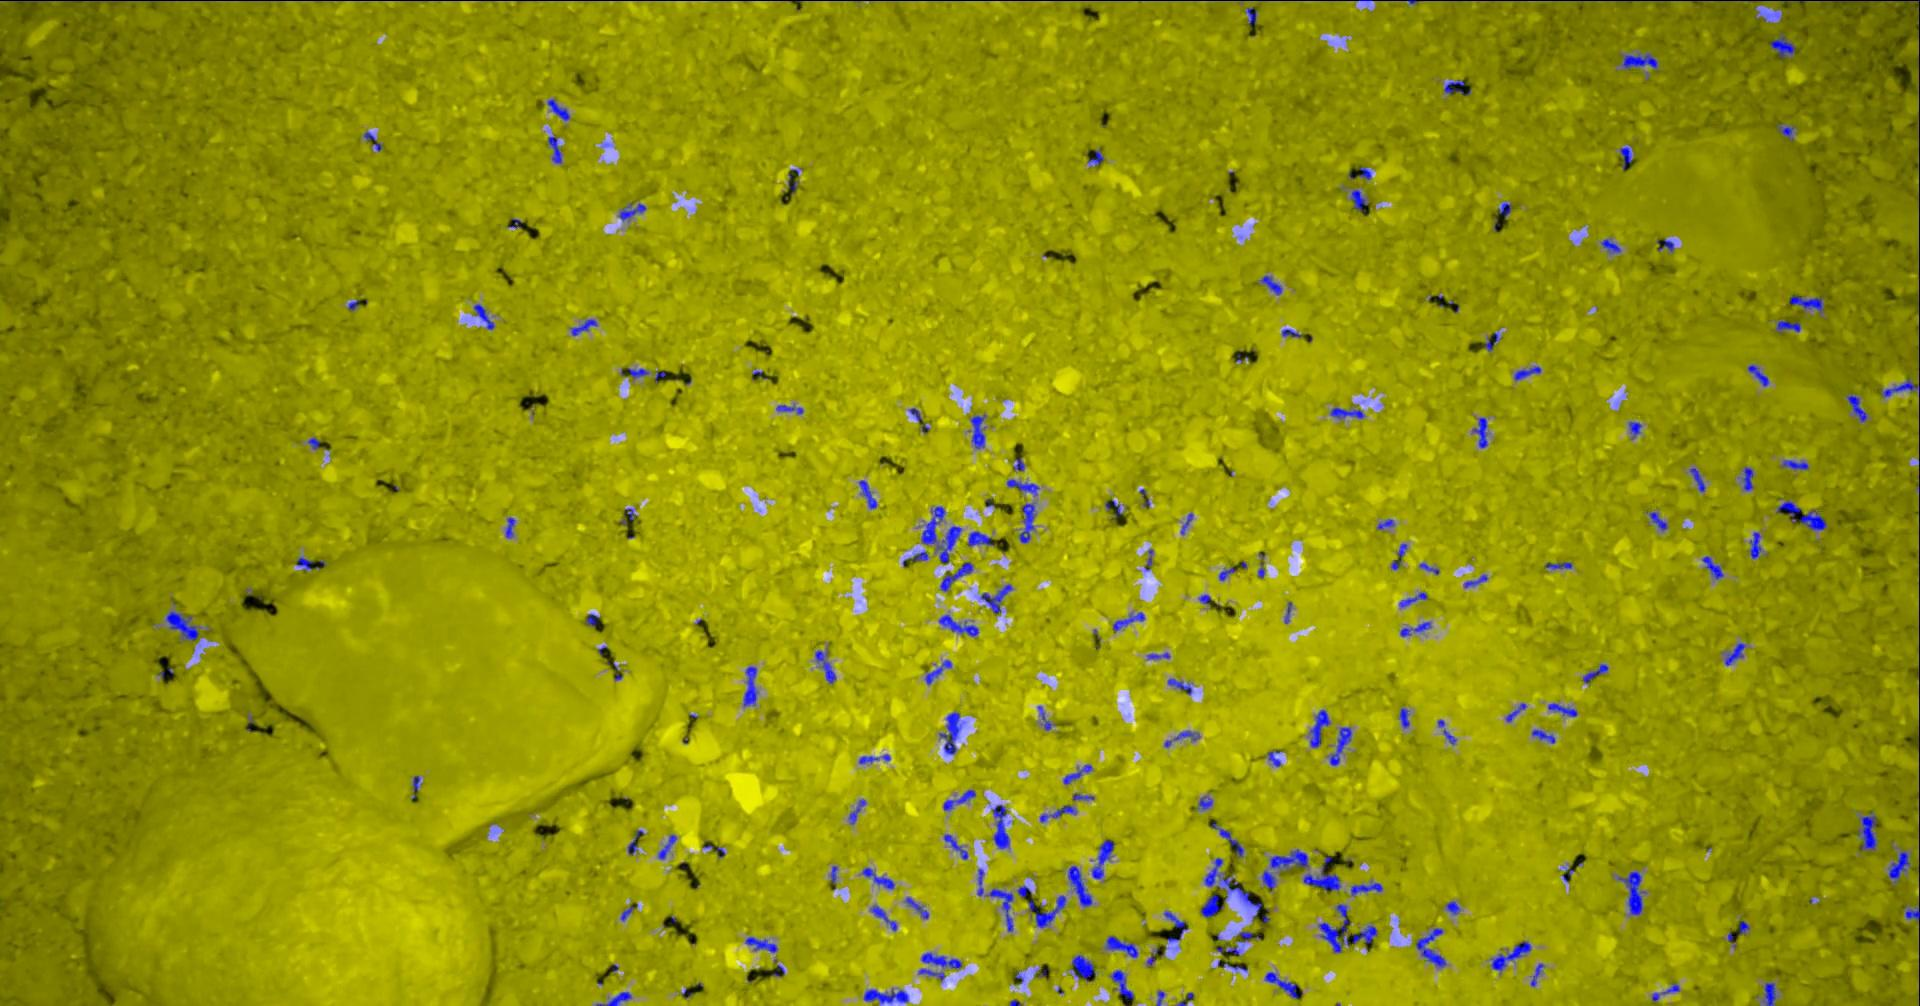ant: (1204, 857, 1261, 918), (1318, 903, 1377, 951), (1775, 500, 1826, 530), (1303, 855, 1340, 890), (1490, 940, 1530, 970), (1617, 871, 1644, 915), (1415, 927, 1445, 967), (1029, 895, 1065, 927), (1210, 822, 1243, 856), (1263, 970, 1302, 998), (988, 888, 1012, 931), (1067, 865, 1092, 906), (165, 610, 198, 640), (938, 713, 961, 754), (936, 526, 961, 563), (940, 561, 971, 591), (938, 614, 978, 636), (980, 584, 1011, 614), (921, 506, 943, 544), (990, 804, 1010, 848), (1330, 727, 1351, 765), (1091, 840, 1112, 878), (1309, 709, 1330, 747), (1269, 848, 1308, 868), (1769, 30, 1796, 58), (1163, 911, 1187, 941), (863, 988, 908, 1005), (1857, 810, 1876, 848), (861, 868, 894, 889), (815, 649, 836, 683), (1110, 969, 1133, 1000), (943, 789, 975, 810), (1105, 935, 1137, 956), (1881, 379, 1919, 396), (870, 904, 897, 930), (1018, 502, 1035, 542), (921, 951, 961, 968), (1789, 293, 1823, 312), (1888, 850, 1909, 882), (1892, 0, 1919, 24), (924, 659, 951, 683), (1070, 954, 1095, 981), (968, 414, 985, 448), (1039, 805, 1076, 822), (1112, 612, 1144, 631), (943, 835, 968, 859), (743, 666, 757, 705), (472, 304, 494, 329), (1006, 478, 1039, 494), (1622, 53, 1657, 69), (1846, 392, 1865, 420), (1063, 763, 1091, 782), (904, 897, 928, 918), (858, 479, 876, 508), (1651, 983, 1679, 1001), (596, 991, 631, 1005), (1702, 556, 1723, 579), (1200, 894, 1222, 917), (1399, 621, 1431, 636), (1582, 663, 1608, 682), (1437, 719, 1457, 744), (745, 936, 777, 951), (618, 202, 645, 220), (547, 98, 569, 119), (1443, 79, 1470, 95), (1724, 641, 1743, 666), (657, 835, 676, 859), (1350, 882, 1382, 895), (570, 319, 597, 335), (1747, 365, 1768, 386), (1473, 417, 1487, 447), (295, 556, 325, 570), (1399, 592, 1427, 607), (1547, 702, 1577, 716), (1505, 702, 1526, 721), (1390, 542, 1406, 569), (1689, 467, 1705, 492), (848, 799, 865, 823), (1330, 406, 1364, 418), (1512, 366, 1540, 380), (1260, 276, 1281, 293), (547, 136, 561, 163), (1167, 678, 1191, 694), (627, 829, 643, 854), (1648, 511, 1667, 530), (363, 131, 381, 151), (702, 841, 724, 857), (968, 531, 993, 545), (1037, 705, 1051, 730), (1749, 531, 1761, 558), (902, 551, 927, 564), (918, 968, 943, 981), (620, 367, 648, 379), (1531, 729, 1554, 743), (1530, 963, 1544, 986), (1484, 332, 1501, 351), (1350, 189, 1365, 210), (1619, 146, 1632, 169), (1775, 320, 1801, 332), (1464, 574, 1487, 587), (775, 404, 803, 414), (858, 754, 890, 763), (1741, 466, 1752, 490), (1105, 500, 1121, 517), (1782, 459, 1808, 469), (1601, 238, 1620, 251), (1764, 982, 1775, 1005), (1173, 730, 1199, 741), (1777, 123, 1793, 138), (1087, 150, 1103, 165), (1218, 567, 1236, 580), (1261, 870, 1275, 888), (787, 169, 797, 193), (1628, 420, 1641, 438), (1215, 946, 1239, 955), (1656, 239, 1672, 251), (621, 508, 634, 525), (1267, 749, 1280, 766), (1238, 931, 1258, 941), (1544, 561, 1571, 569), (1197, 795, 1211, 809), (1445, 901, 1459, 915), (1244, 8, 1257, 23), (1498, 202, 1511, 217), (1399, 708, 1410, 727), (505, 516, 514, 537), (977, 868, 983, 895), (1016, 885, 1031, 897), (1903, 908, 1919, 920), (1359, 166, 1371, 179), (585, 614, 598, 626), (1737, 920, 1749, 934), (1820, 0, 1887, 1)
